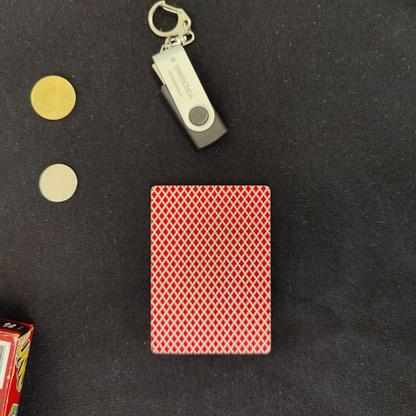card: (135, 177, 281, 360)
